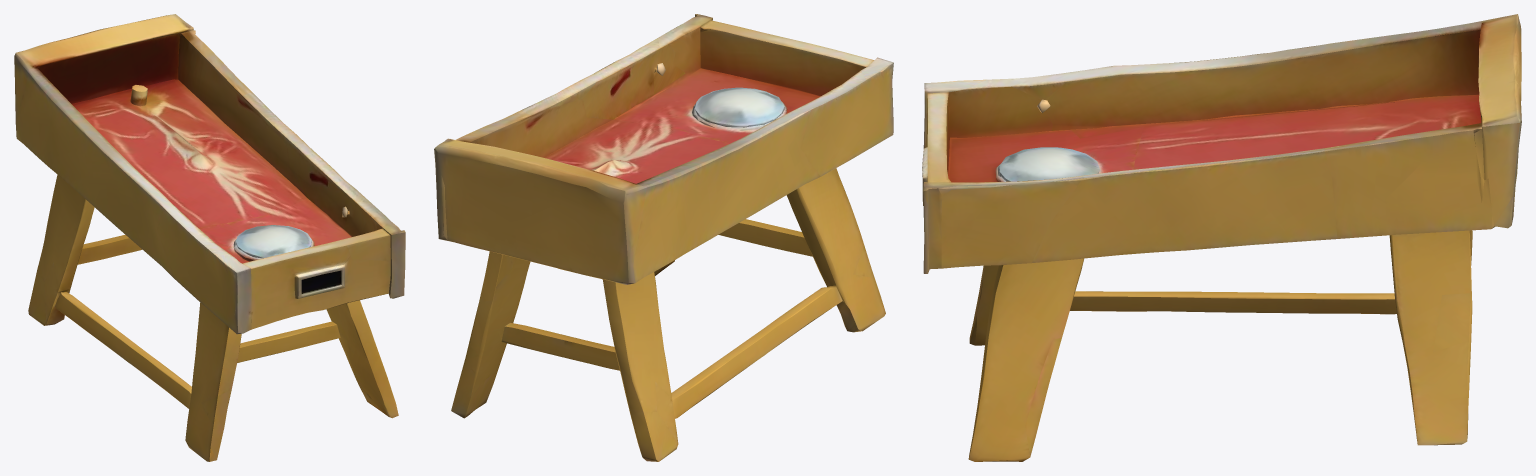
File: m2ToyFlipper.glb
3 renders of one model, left to right at view 1: azimuth 30°, elevation 25°; view 2: azimuth 150°, elevation 25°; view 3: azimuth 270°, elevation 25°, orthographic. The views are drawn at different scales.
Parts seen in each view (by area): view 1: model; view 2: model; view 3: model.
Boxes of the visible parts, box(x1,y1,x2,y2) form: model: box(14, 14, 405, 461); model: box(434, 14, 893, 461); model: box(922, 14, 1521, 461).
Size of the model in its own units: 0.9232 by 1.18 by 1.9.
Materials: 1 (1 with a texture image).
